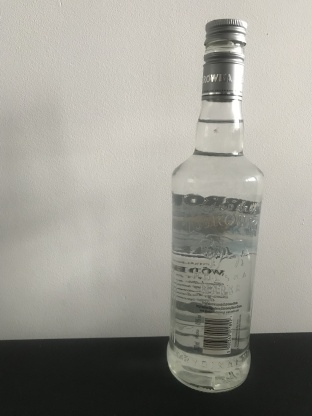nakretka: (200, 17, 248, 101)
